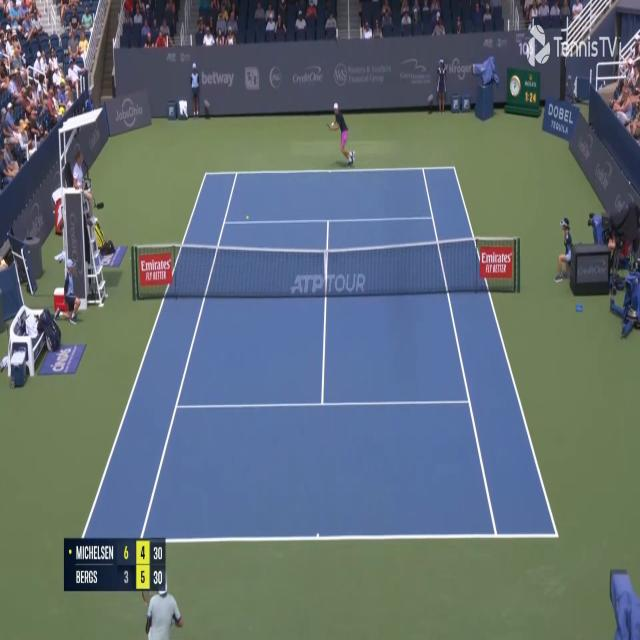tennis-player: (138, 492, 185, 639), (325, 100, 356, 170)
